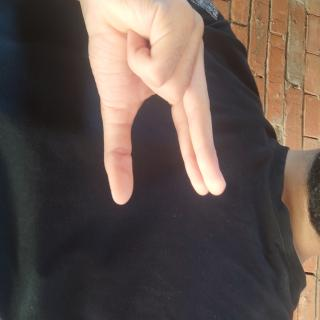DHELL: (0, 119, 155, 320)
